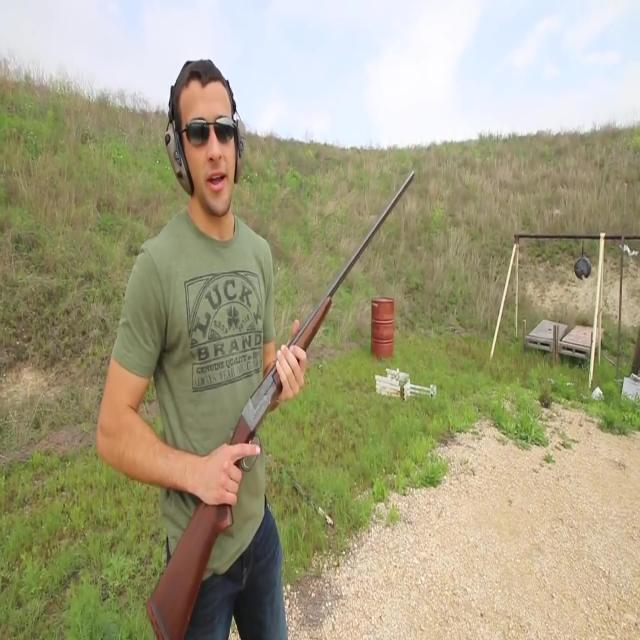Weapon: (108, 150, 433, 640)
